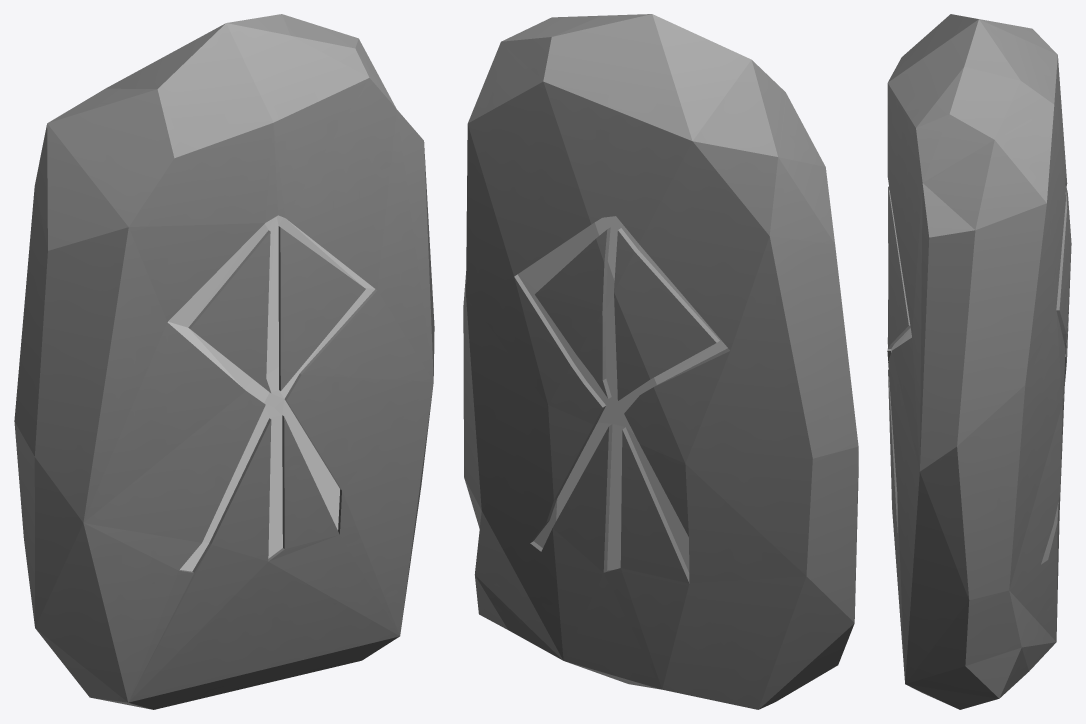
The model's file is runestone_courage.fbx.
3 views of the same model, side by side, from view 1: azimuth 30°, elevation 25°; view 2: azimuth 150°, elevation 25°; view 3: azimuth 270°, elevation 25° (orthographic). The views are drawn at different scales.
Visible parts, largest first — view 1: runestone_courage; view 2: runestone_courage; view 3: runestone_courage.
Part boxes in pixels (x1,y1,x2,y2): runestone_courage: [14, 14, 434, 709]; runestone_courage: [463, 14, 858, 709]; runestone_courage: [887, 14, 1071, 709].
Bounding box in the file's own units: 1.8 × 2.8 × 0.75.
Materials: 2 (1 with a texture image).
